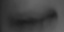LeftEyeFatigue: (6, 6, 64, 30)
